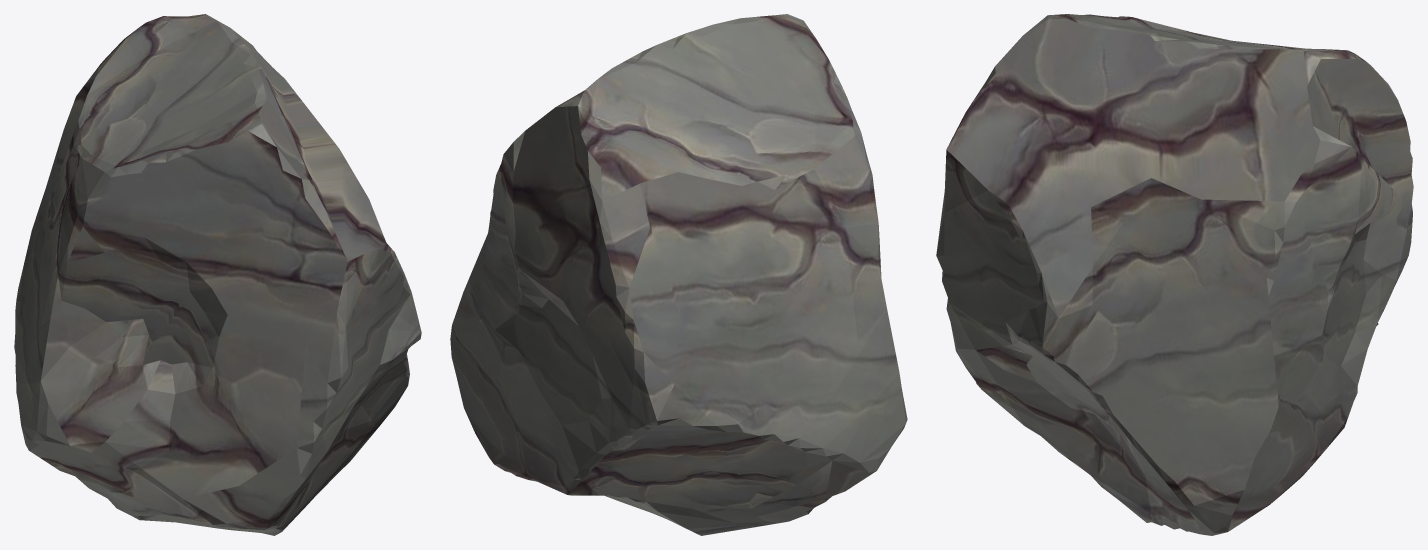
The model's file is stone_01.fbx.
The picture shows the model from 3 angles, left to right: view 1: azimuth 30°, elevation 25°; view 2: azimuth 150°, elevation 25°; view 3: azimuth 270°, elevation 25°; orthographic projection. The views are drawn at different scales.
Parts seen in each view (by area): view 1: rock01; view 2: rock01; view 3: rock01.
Boxes of the visible parts, x1,y1,x2,y2 form: rock01: (14, 14, 421, 535); rock01: (450, 14, 907, 535); rock01: (936, 14, 1413, 535).
Bounding box in the file's own units: 2.68 × 2.83 × 3.13.
